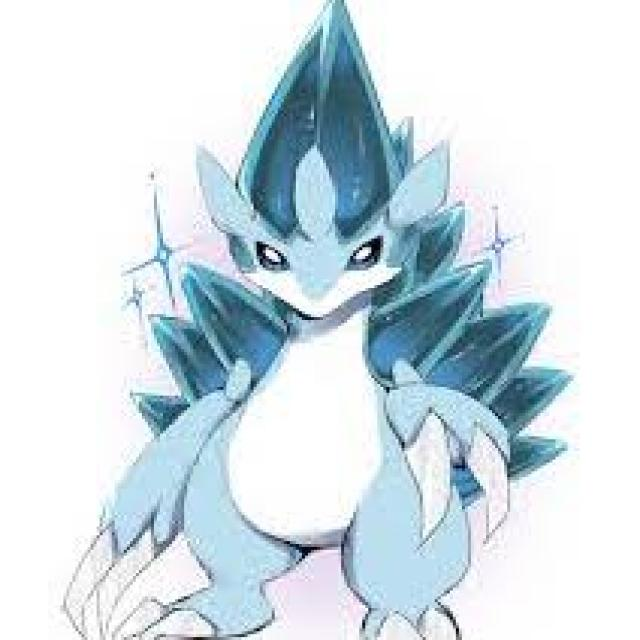Alolan: (101, 14, 517, 634)
